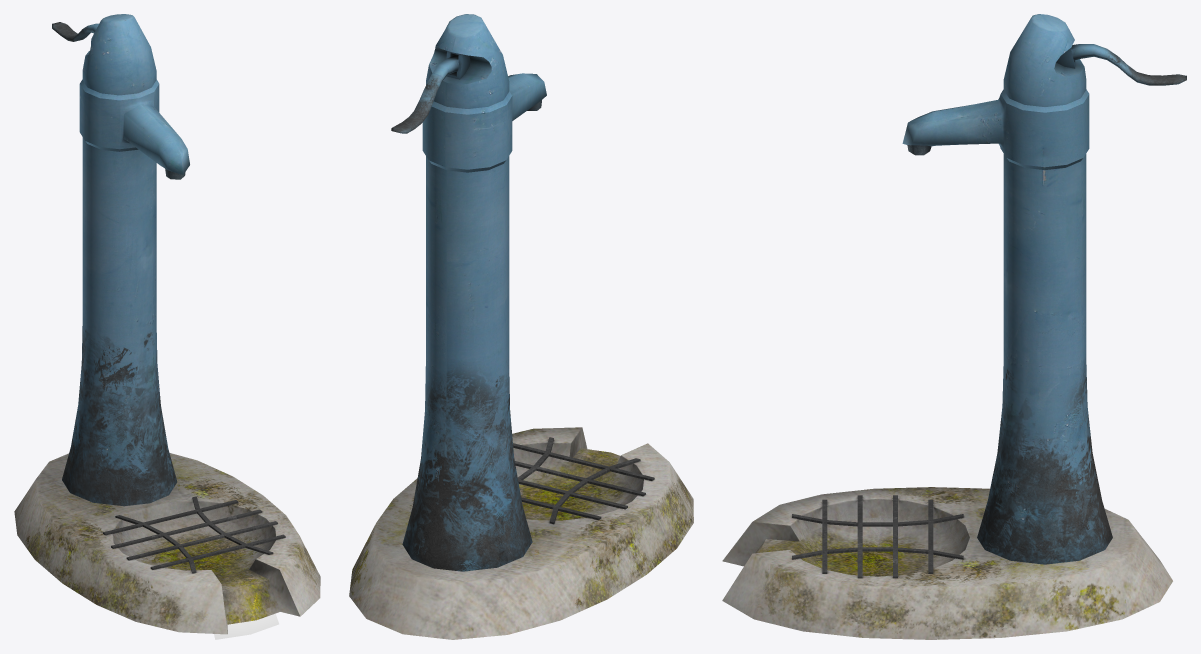
Rendered from standpipe.fbx.
3 views of the same model, side by side, from view 1: azimuth 30°, elevation 25°; view 2: azimuth 150°, elevation 25°; view 3: azimuth 270°, elevation 25° (orthographic). The views are drawn at different scales.
Parts seen in each view (by area): view 1: standpipe_base, standpipe_water, standpipe_lever; view 2: standpipe_base, standpipe_lever; view 3: standpipe_base, standpipe_lever.
Part boxes in pixels (bbox=[...]): standpipe_base: bbox=[14, 14, 320, 634]; standpipe_water: bbox=[214, 613, 278, 639]; standpipe_lever: bbox=[52, 22, 98, 41]; standpipe_base: bbox=[349, 14, 693, 639]; standpipe_lever: bbox=[391, 55, 459, 133]; standpipe_base: bbox=[722, 14, 1172, 639]; standpipe_lever: bbox=[1071, 44, 1186, 85].
Bounding box in the file's own units: 18.68 × 43.13 × 31.1.
